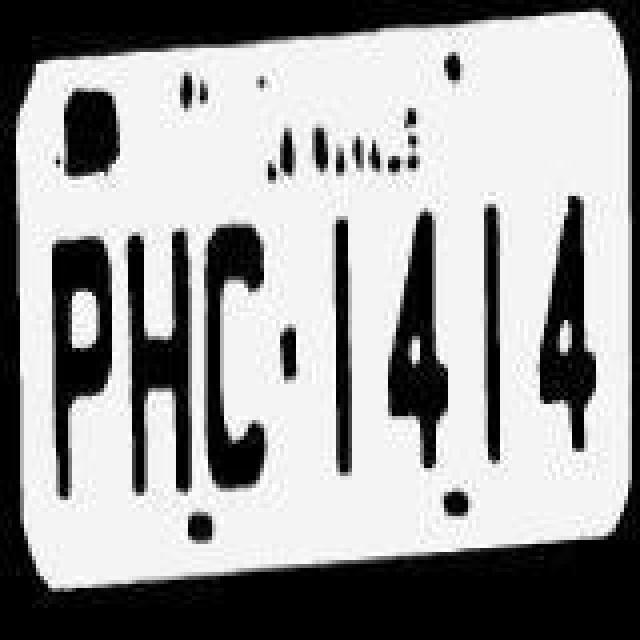1: (468, 200, 524, 500), (316, 212, 372, 488)
4: (530, 186, 614, 478), (386, 214, 462, 494)
C: (202, 218, 278, 498)
H: (118, 222, 194, 514)
P: (38, 222, 114, 530)
